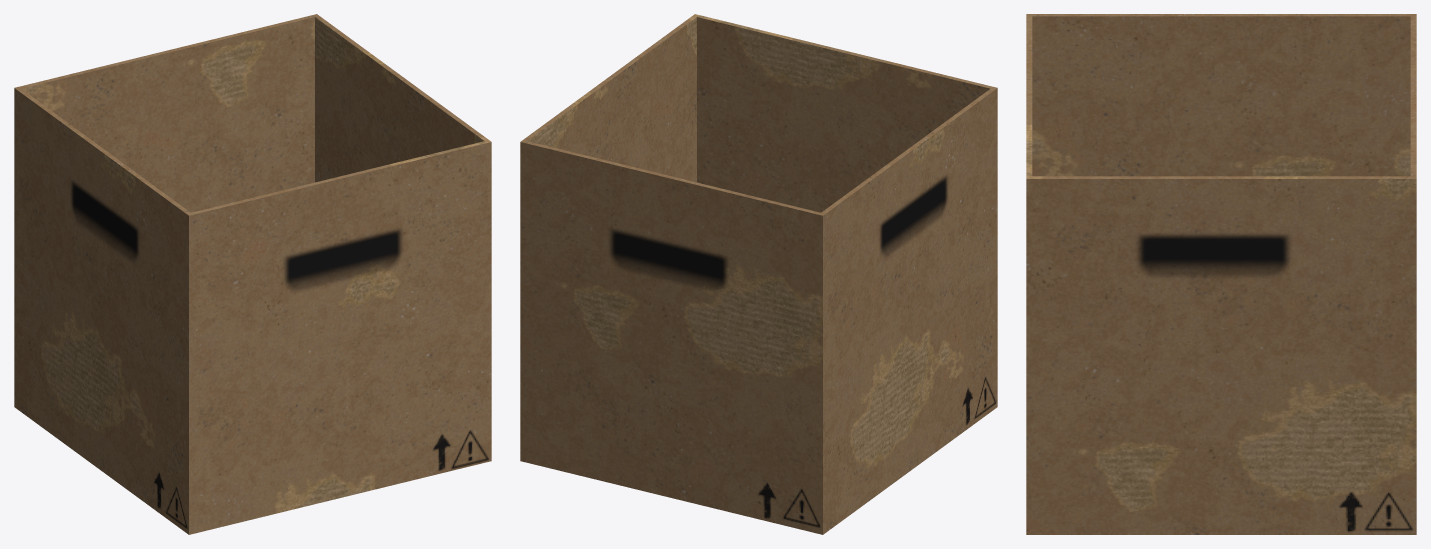
File: box_no_cap.fbx
3 renders of one model, left to right at view 1: azimuth 30°, elevation 25°; view 2: azimuth 150°, elevation 25°; view 3: azimuth 270°, elevation 25°, orthographic. The views are drawn at different scales.
Visible parts, largest first — view 1: box_no_cap; view 2: box_no_cap; view 3: box_no_cap.
Boxes of the visible parts, x1,y1,x2,y2 form: box_no_cap: (14,14,491,534); box_no_cap: (520,14,997,534); box_no_cap: (1026,14,1416,534).
Size of the model in its own units: 134 by 135 by 134.
1 material, 1 textured.
